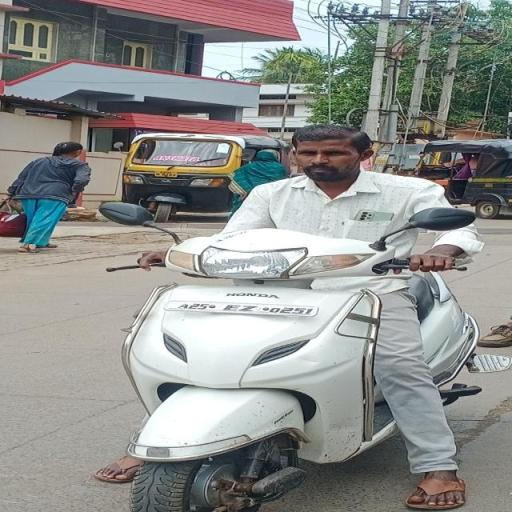bike: (92, 116, 508, 512)
numberplate: (168, 296, 320, 326)
withouthelmet: (294, 126, 368, 176)
